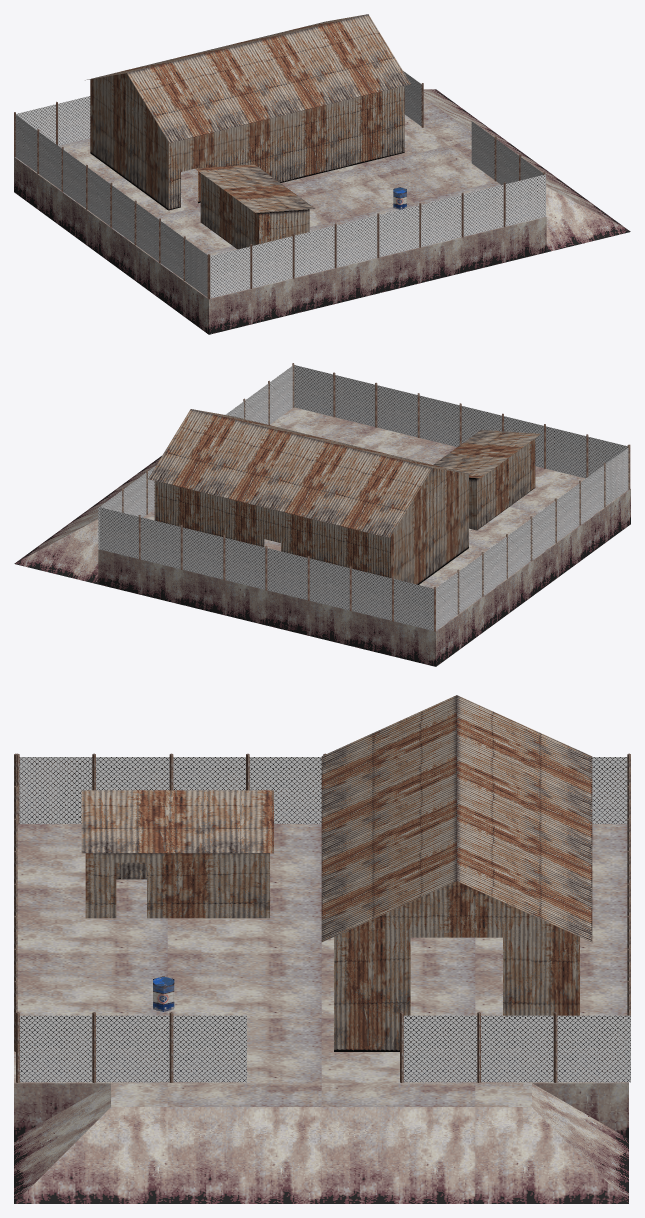
Rendered from BasicLevel2.gltf.
3 views of the same model, one above another, from view 1: azimuth 30°, elevation 25°; view 2: azimuth 150°, elevation 25°; view 3: azimuth 270°, elevation 25° (orthographic). The views are drawn at different scales.
Parts seen in each view (by area): view 1: Level-col; view 2: Level-col; view 3: Level-col.
Boxes of the visible parts, x1,y1,x2,y2 form: Level-col: (14,14,630,334); Level-col: (14,363,630,666); Level-col: (14,695,630,1203).
Size of the model in its own units: 25 by 8.2 by 20.06.
6 materials, 6 textured.
